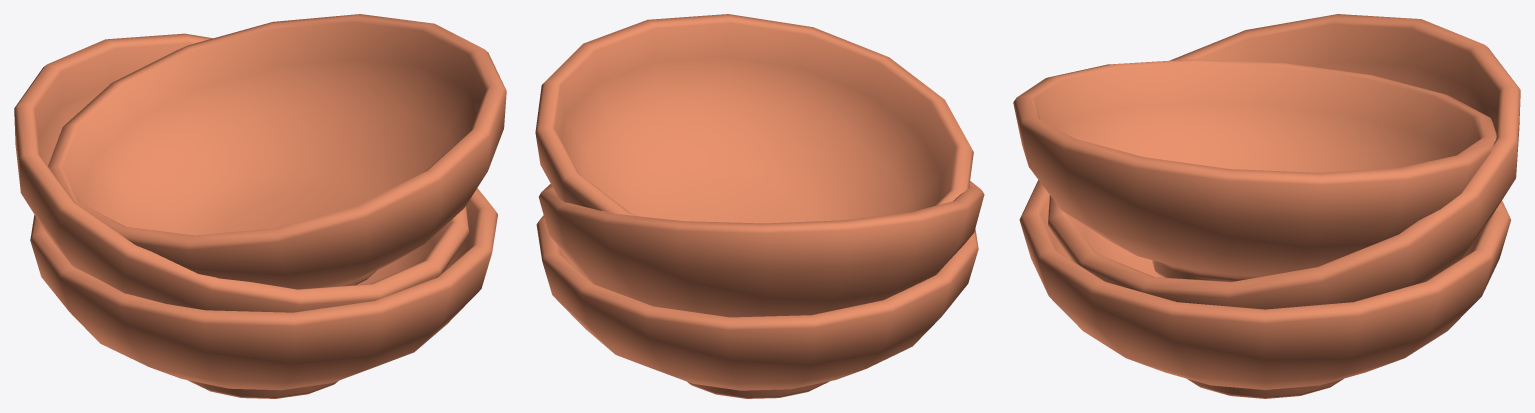
File: bowl_stack.fbx
3 views of the same model, side by side, from view 1: azimuth 30°, elevation 25°; view 2: azimuth 150°, elevation 25°; view 3: azimuth 270°, elevation 25° (orthographic). The views are drawn at different scales.
Visible parts, largest first — view 1: Bowl_stack; view 2: Bowl_stack; view 3: Bowl_stack.
Part boxes in pixels (box(x1,y1,x2,y2)): Bowl_stack: box(14, 14, 506, 398); Bowl_stack: box(535, 14, 984, 398); Bowl_stack: box(1013, 14, 1520, 398).
Bounding box in the file's own units: 35.56 × 22.43 × 35.72.
